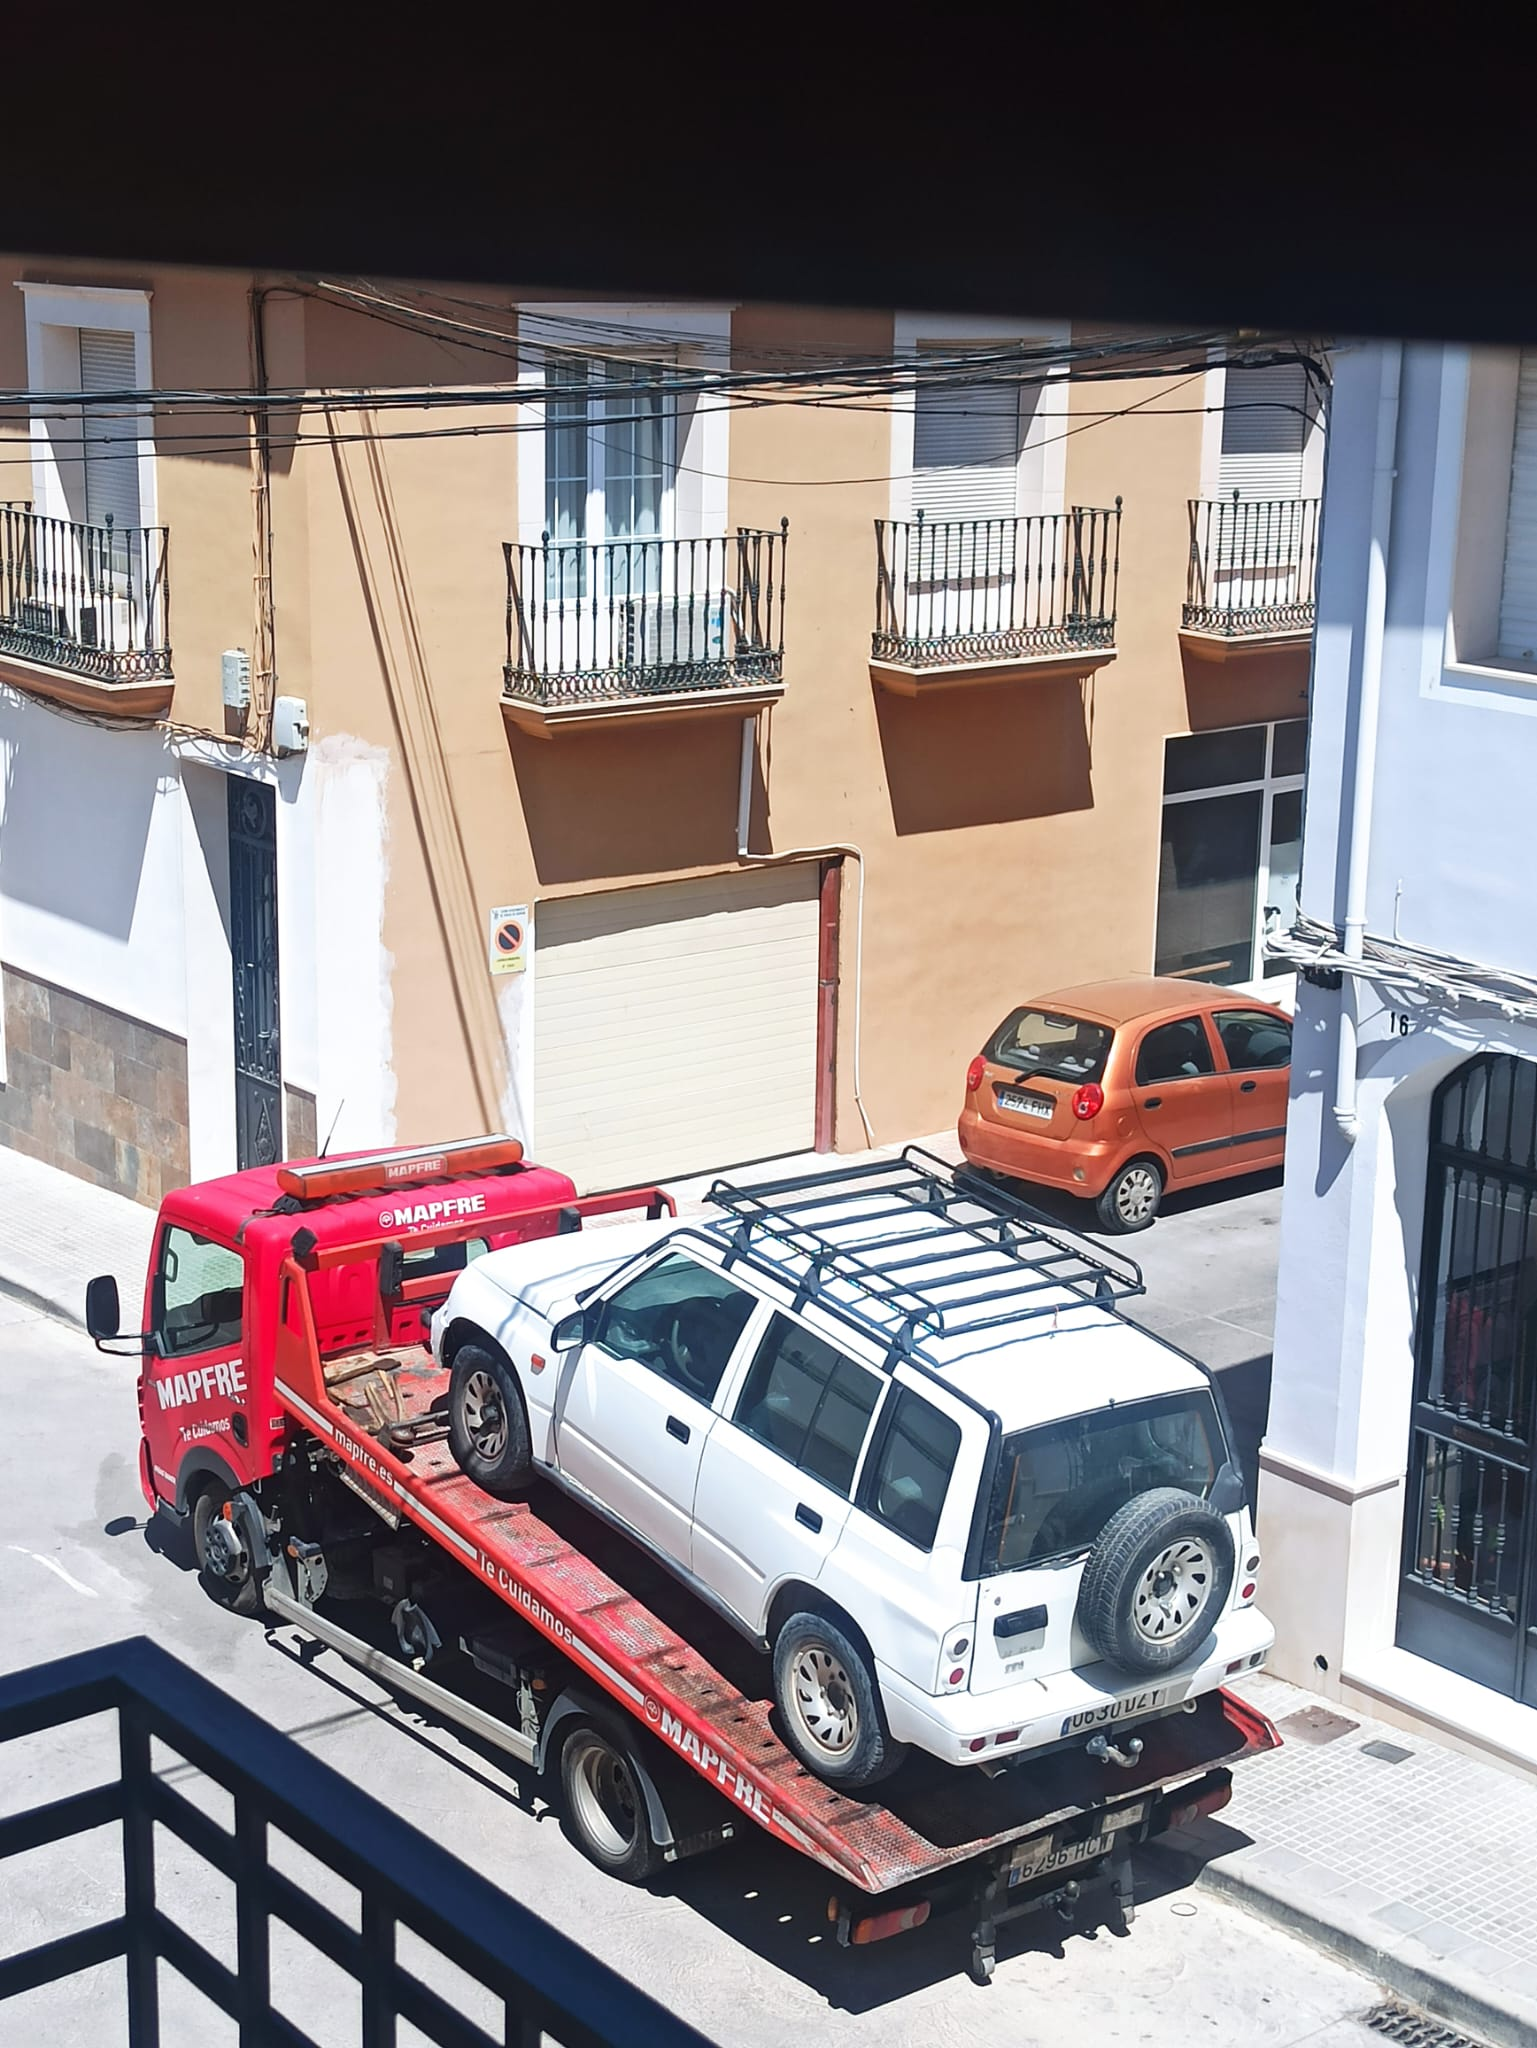car: (423, 1151, 1298, 1769), (941, 972, 1285, 1233)
